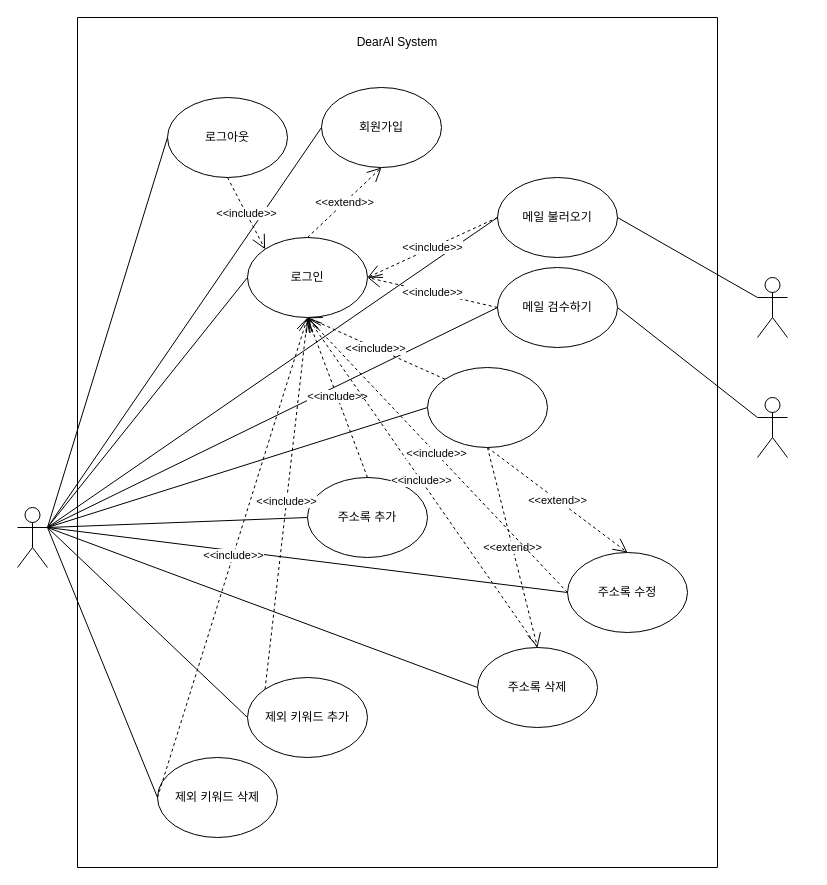
This 827x885 diagram has some shape labels left out. The shapes that lost their labels are listed below. From the top down, each one's box as (x1, y1, x2, y2) in pixels, then its label:
(756, 276, 788, 338): Mail Web Site
(426, 366, 548, 448): 주소록 조회
(756, 396, 788, 458): AI API
(16, 506, 48, 568): user
